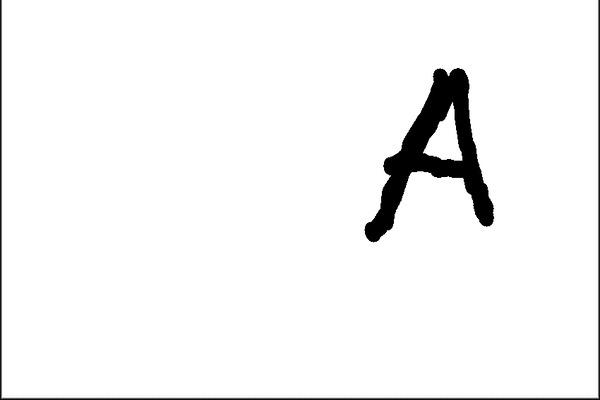A: (349, 54, 507, 245)
